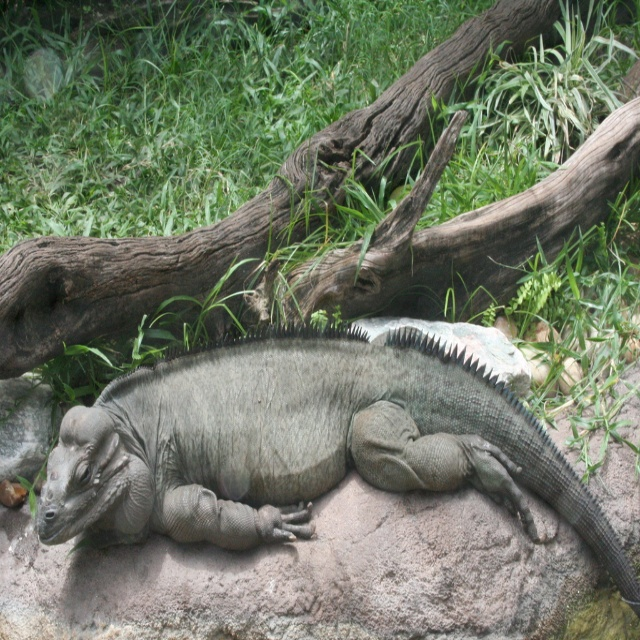Crocodile: (38, 318, 640, 618)
